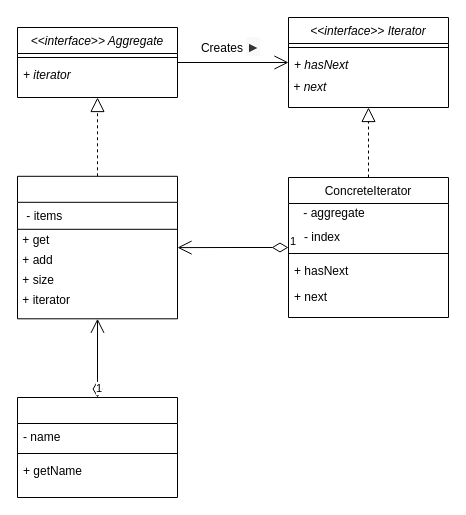
The diagram is 466 pixels wide and 515 high, and some of its shapes have lost their labels. The shapes that lost their labels are listed below. From the top down, each one's box as (x1, y1, x2, y2) in pixels, then its label:
(16, 175, 178, 319): ConcreteAggregate
(16, 396, 178, 498): Book
